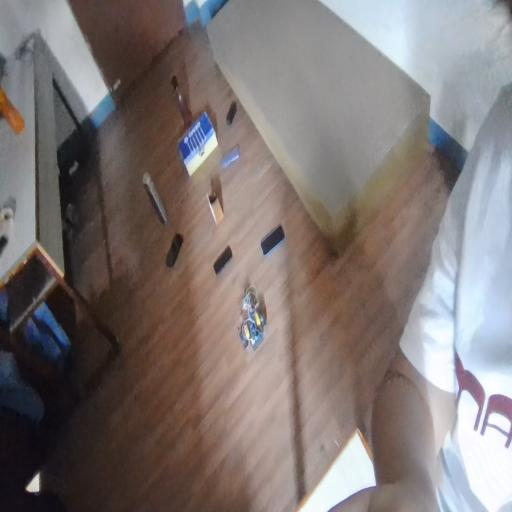Bottle: (170, 70, 193, 124)
car: (227, 288, 280, 369)
